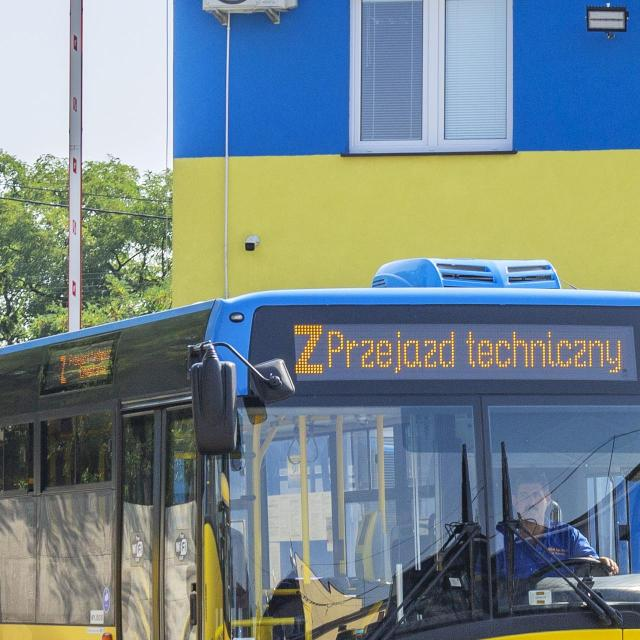Bus: (0, 280, 640, 640)
